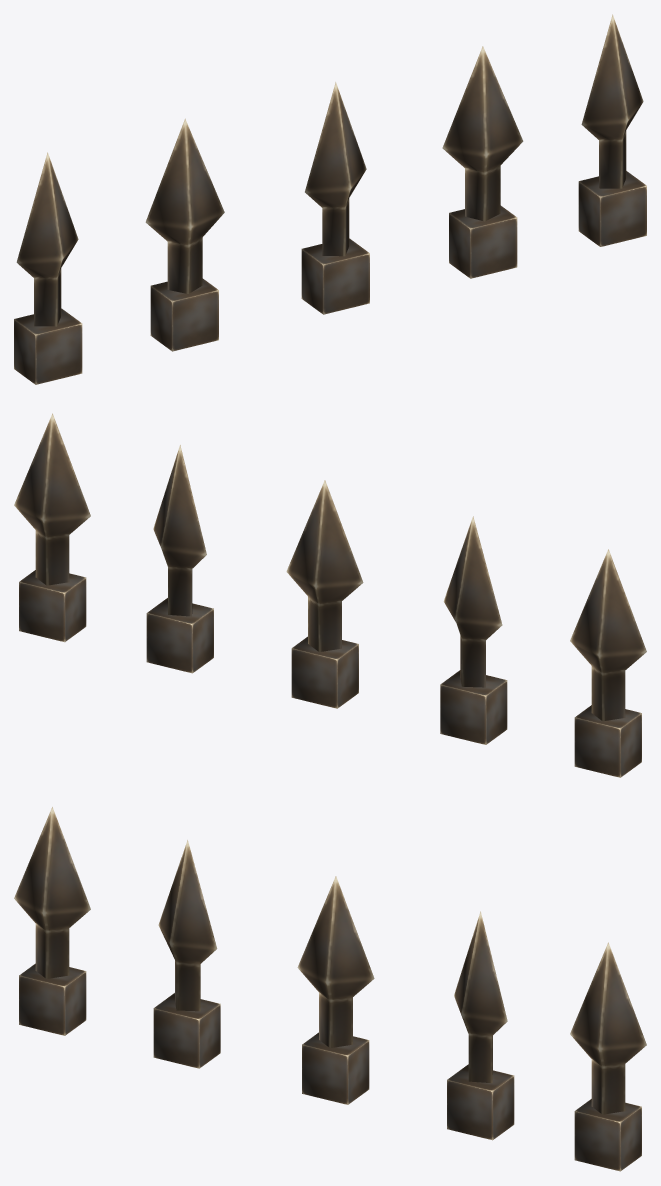
File: Fence_Harrow02.FBX
3 renders of one model, top to bottom at view 1: azimuth 30°, elevation 25°; view 2: azimuth 150°, elevation 25°; view 3: azimuth 330°, elevation 25°, orthographic.
Visible parts, largest first — view 1: Fence_Harrow02; view 2: Fence_Harrow02; view 3: Fence_Harrow02.
Part boxes in pixels (<box>): Fence_Harrow02: <box>14,14,646,384</box>; Fence_Harrow02: <box>14,413,646,777</box>; Fence_Harrow02: <box>14,807,646,1171</box>.
Bounding box in the file's own units: 3.82 × 0.2529 × 1.26.
